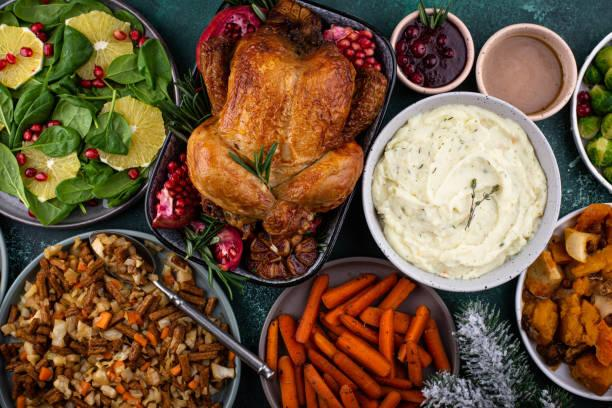Braised Crucian Carp: (160, 1, 388, 286), (5, 229, 245, 405), (362, 91, 558, 293), (2, 0, 177, 224), (259, 257, 457, 407)
